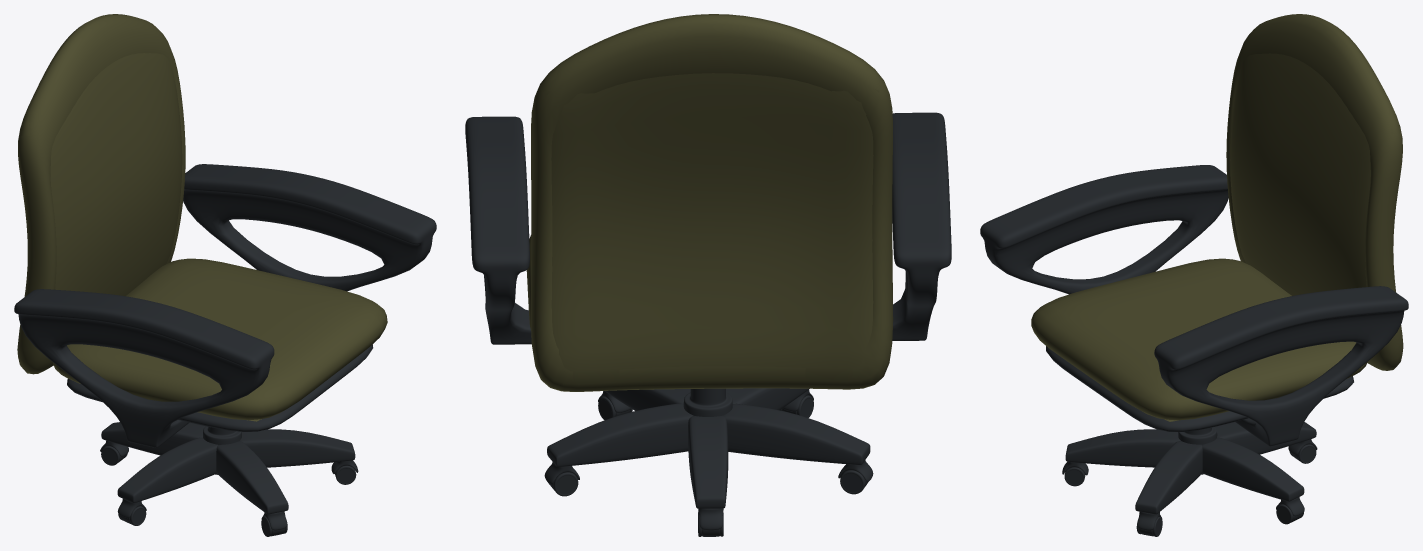
File: Silla Pc.fbx
The picture shows the model from 3 angles, left to right: view 1: azimuth 30°, elevation 25°; view 2: azimuth 150°, elevation 25°; view 3: azimuth 270°, elevation 25°; orthographic projection. The views are drawn at different scales.
Parts seen in each view (by area): view 1: Silla; view 2: Silla; view 3: Silla.
Boxes of the visible parts, left/top/right/bottom form: Silla: left=14, top=14, right=436, bottom=536; Silla: left=465, top=14, right=951, bottom=536; Silla: left=980, top=14, right=1408, bottom=536.
Bounding box in the file's own units: 188 × 192 × 174.
